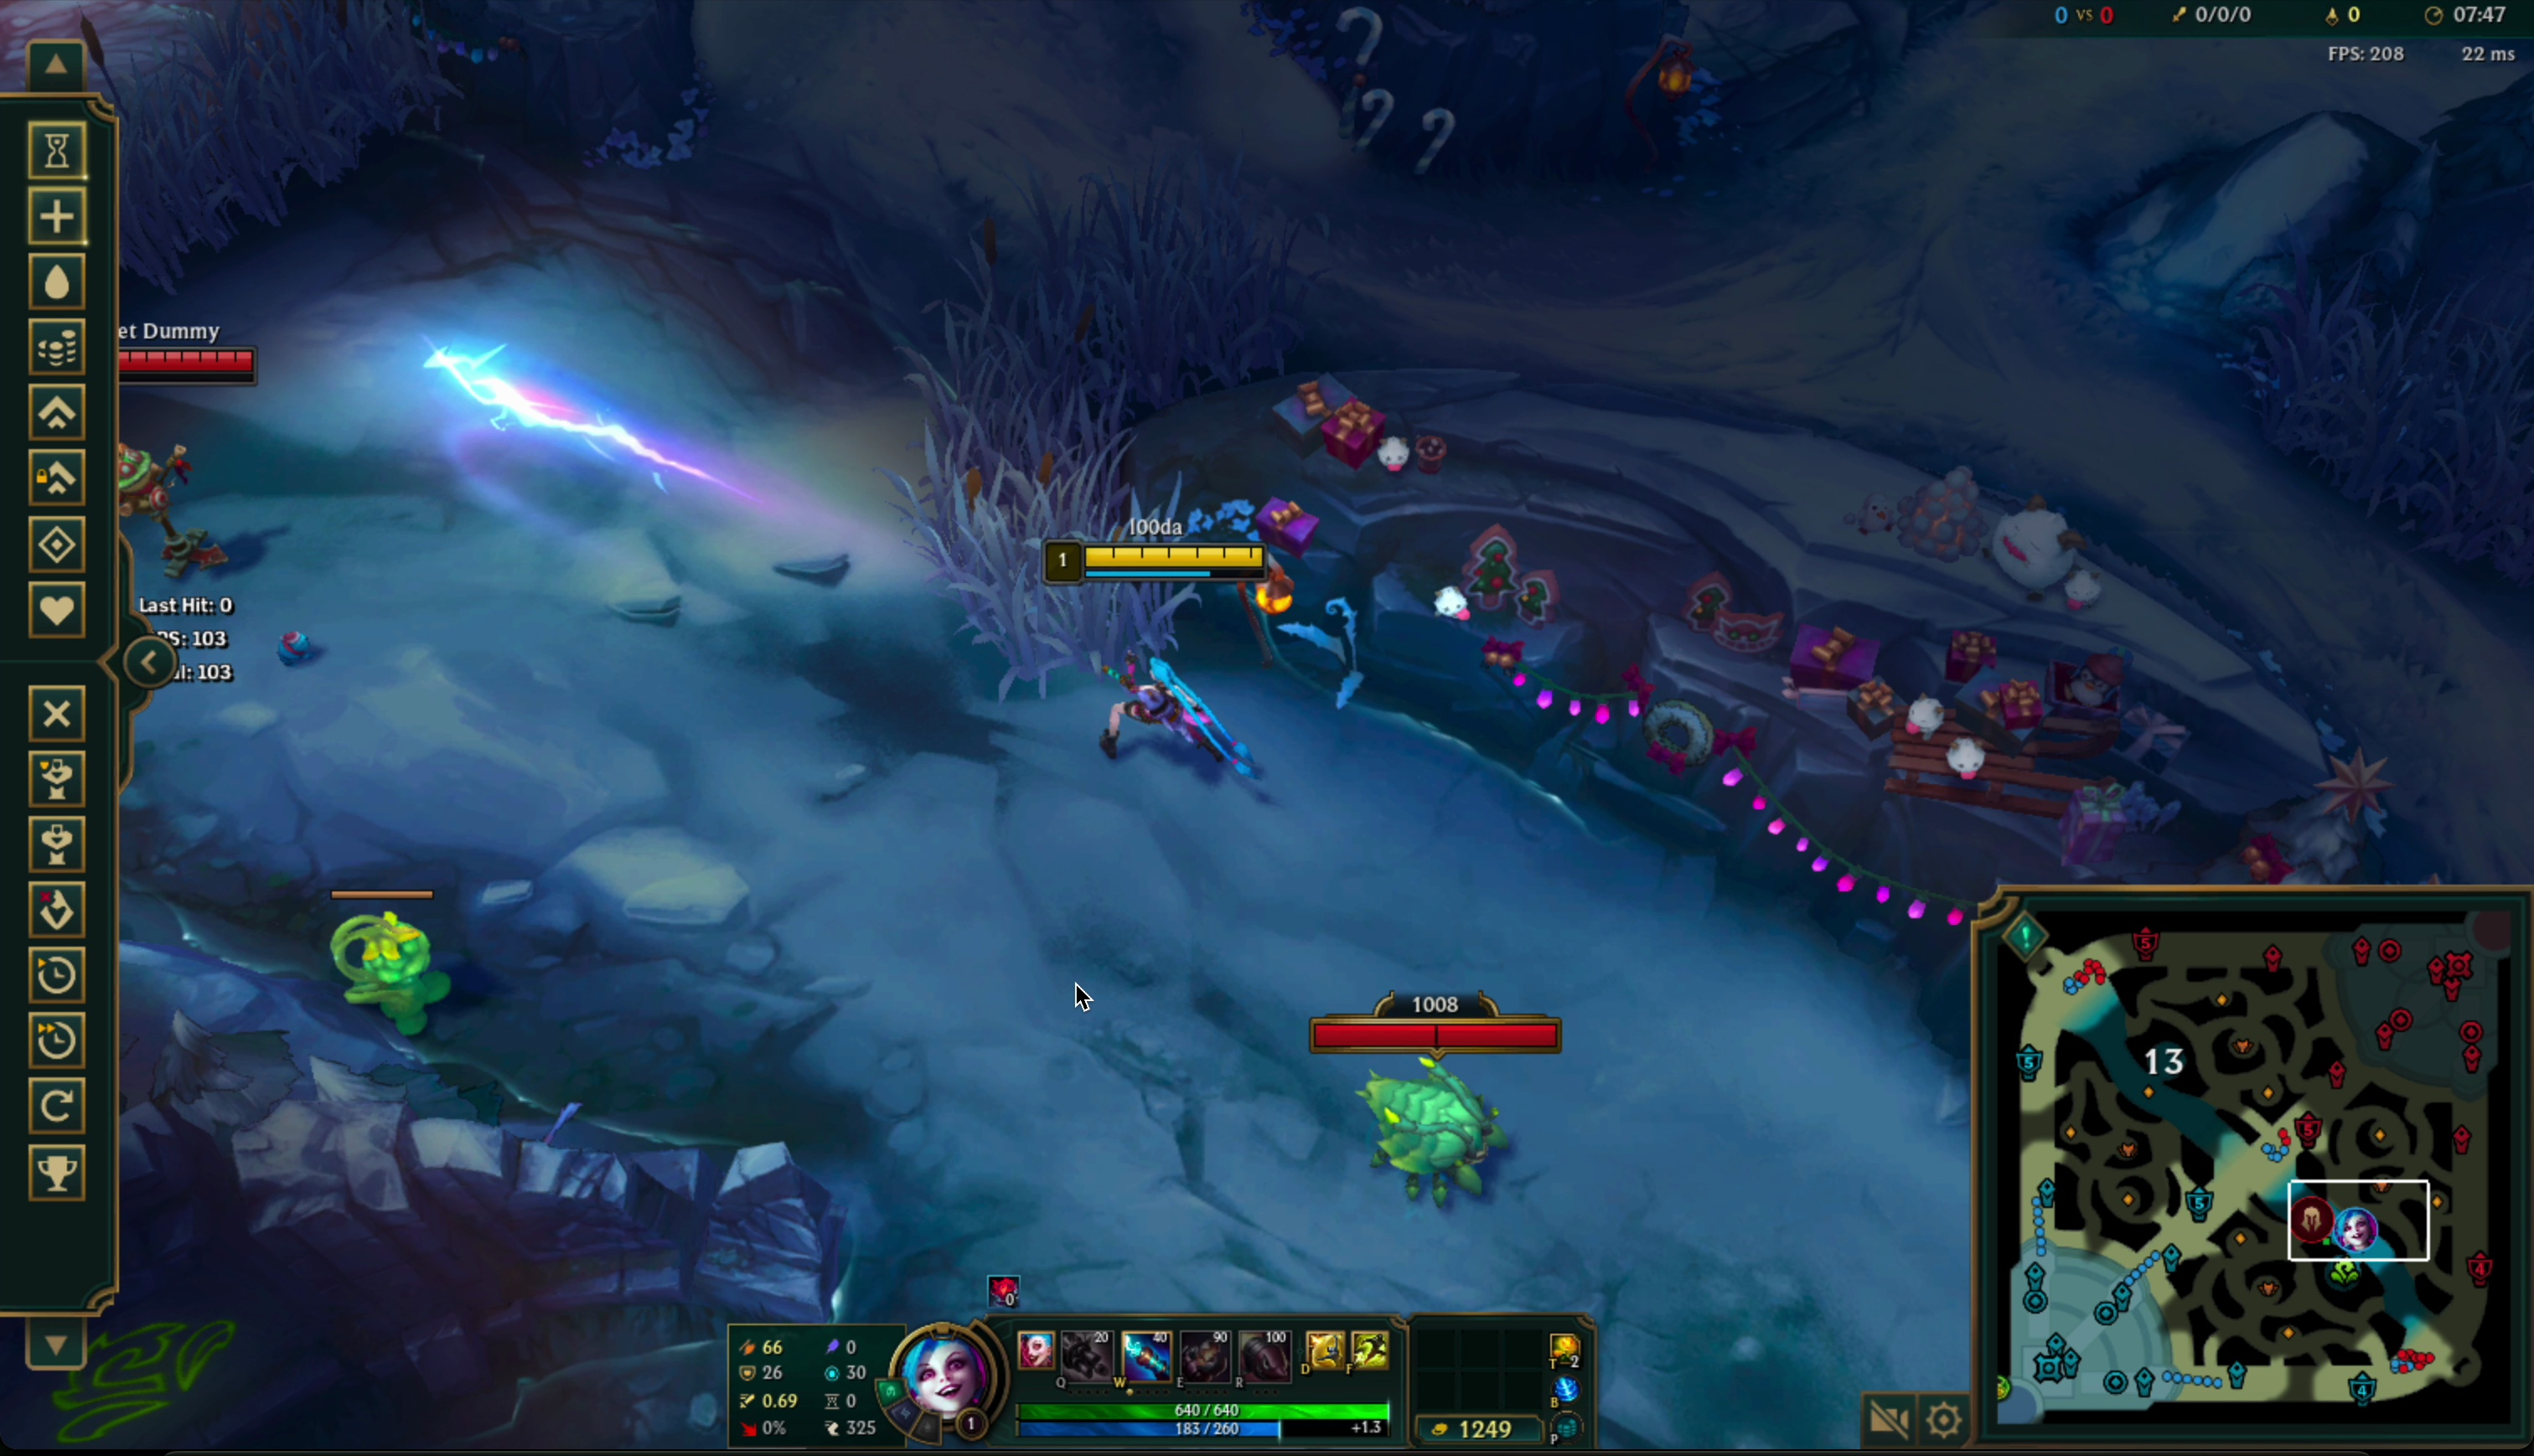JINX_W_PROJECTILE: (127, 284, 966, 628)
